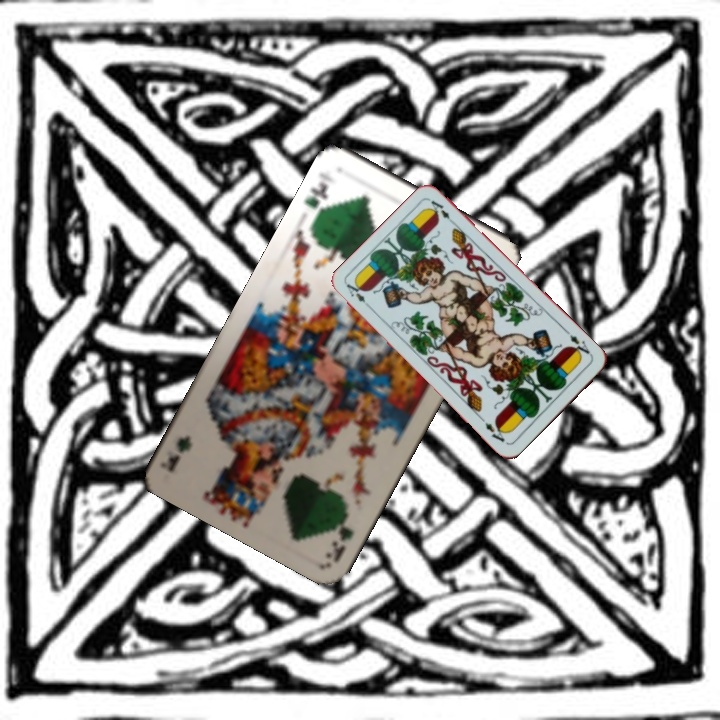EA: (562, 327, 595, 361), (342, 278, 375, 312)
GK: (300, 167, 340, 222), (328, 506, 356, 564)
